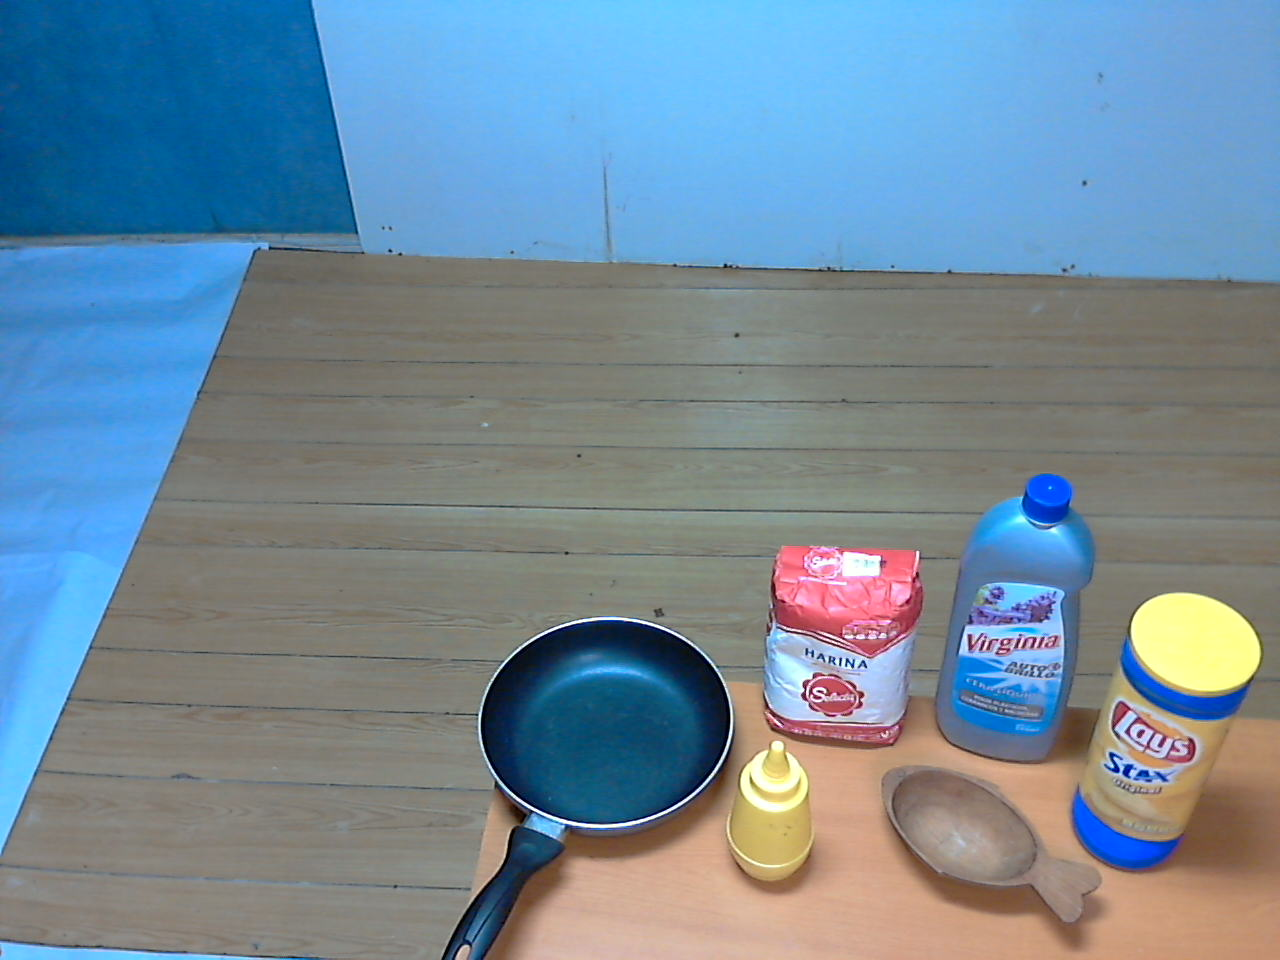cera: (929, 460, 1103, 772)
harina: (745, 538, 932, 763)
mostaza: (714, 737, 836, 896)
papas: (1067, 589, 1271, 907)
pescado: (870, 756, 1113, 939)
sarten: (438, 609, 742, 960)
